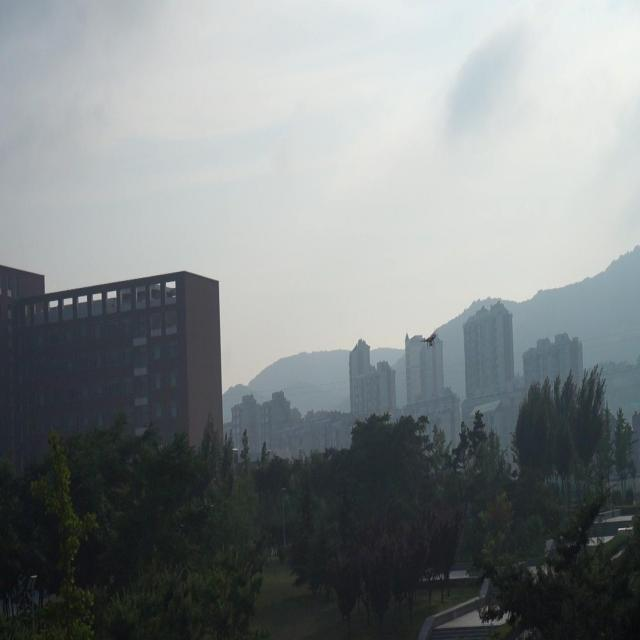UAV: (420, 332, 436, 348)
